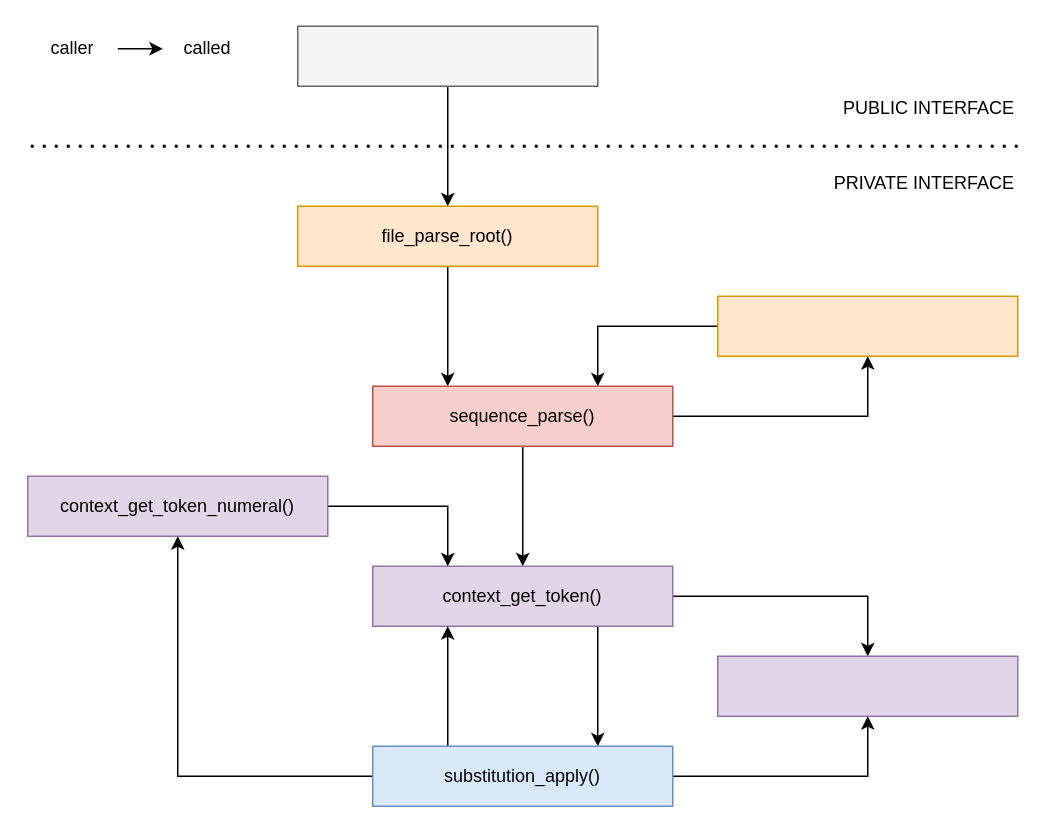
This 1046x833 diagram has some shape labels left out. The centre of each missing label's shape, as x and y in pixels:
ccfg_load(): point (447, 55)
context_get_token_raw(): point (867, 685)
file_parse_child(): point (867, 325)
